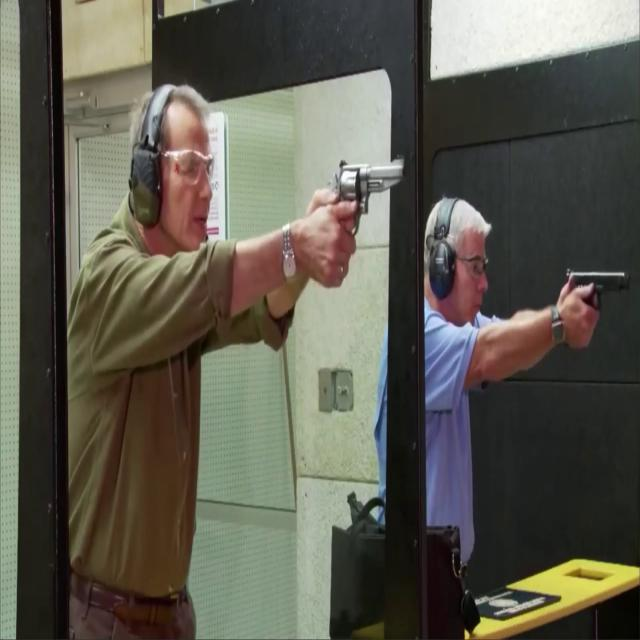Gun: (331, 154, 406, 238), (564, 266, 630, 311)
